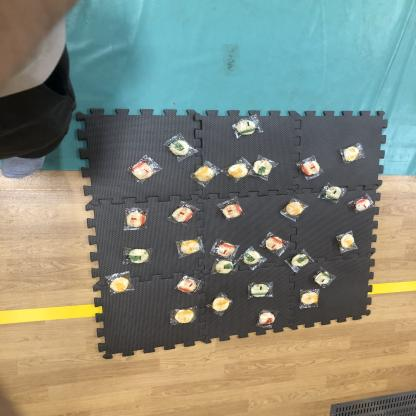green_setoshio: (166, 135, 199, 160), (231, 115, 264, 139), (251, 154, 279, 178), (123, 246, 155, 266), (210, 259, 240, 278), (241, 247, 265, 270), (286, 250, 312, 271), (320, 183, 346, 204), (311, 267, 336, 287), (249, 282, 276, 300)
red_setoshio: (127, 155, 162, 183), (119, 204, 153, 232), (261, 232, 291, 258), (295, 155, 326, 180), (172, 273, 204, 297), (170, 200, 199, 226), (217, 198, 248, 220), (347, 191, 375, 213), (212, 239, 240, 259), (254, 309, 280, 328)
yellow_setoshio: (184, 160, 222, 186), (106, 271, 133, 297), (224, 157, 252, 182), (175, 237, 207, 258), (208, 293, 235, 317), (296, 286, 323, 309), (280, 198, 308, 220), (340, 142, 366, 164), (169, 306, 197, 326), (337, 232, 357, 254)
